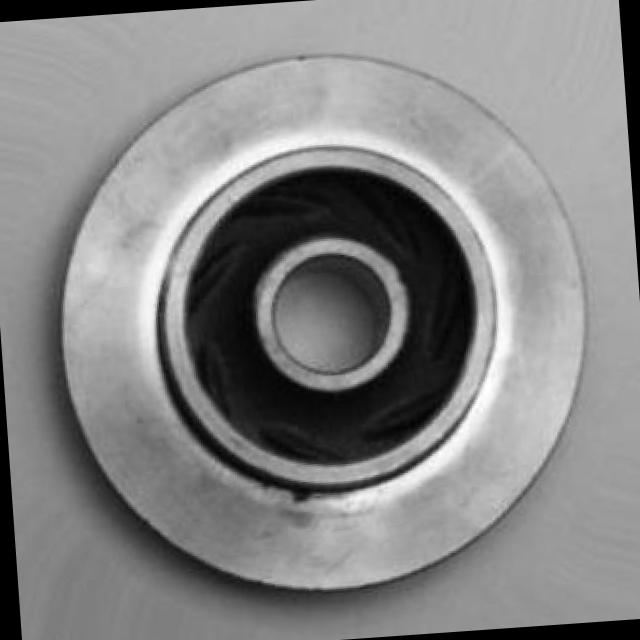Defect: (286, 478, 326, 528)
